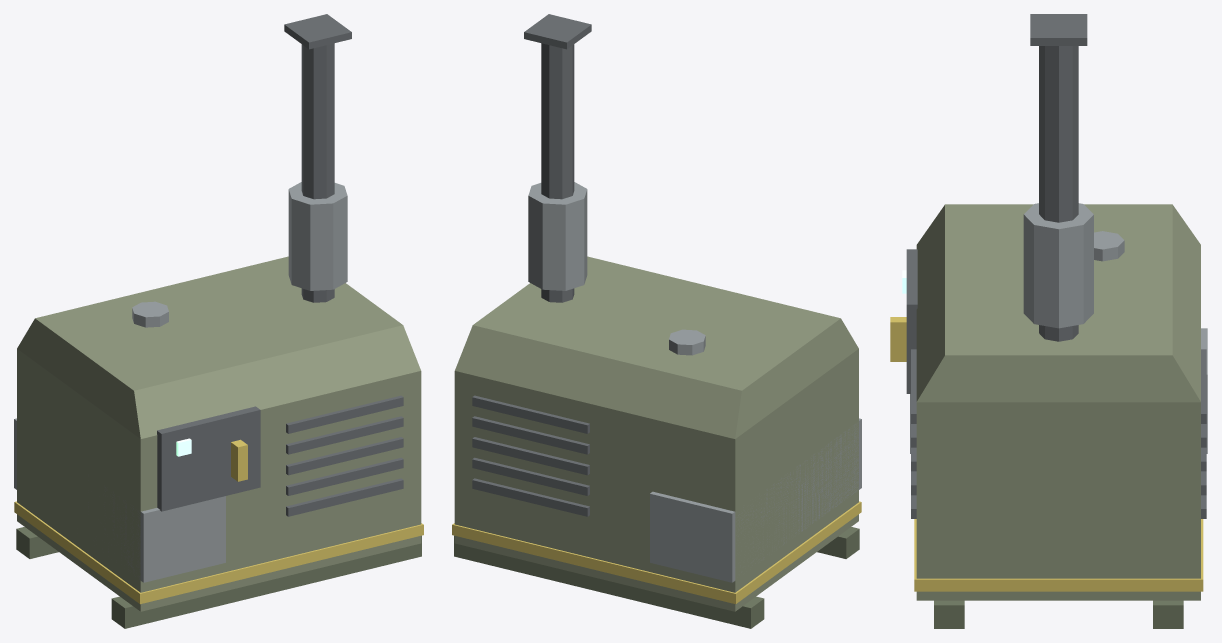
Rendered from generador.glb.
3 views of the same model, side by side, from view 1: azimuth 30°, elevation 25°; view 2: azimuth 150°, elevation 25°; view 3: azimuth 270°, elevation 25° (orthographic). The views are drawn at different scales.
Parts seen in each view (by area): view 1: generador; view 2: generador; view 3: generador.
Part boxes in pixels (bbox=[...]): generador: bbox=[14, 14, 423, 628]; generador: bbox=[452, 14, 861, 628]; generador: bbox=[890, 14, 1207, 628].
Size of the model in its own units: 1.8 by 2.9 by 1.45.
